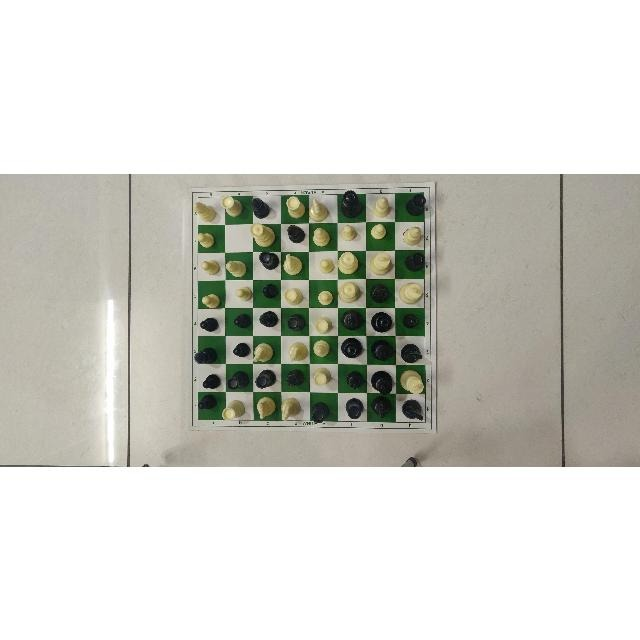black-bishop: (250, 195, 272, 221), (342, 368, 366, 391), (284, 366, 308, 389), (193, 345, 218, 365), (257, 308, 280, 329), (286, 223, 306, 245)
black-king: (370, 367, 396, 394), (340, 308, 365, 332), (369, 338, 394, 361)
black-knight: (369, 395, 394, 419), (401, 398, 426, 421), (367, 280, 392, 303), (399, 342, 424, 364)
black-pawn: (259, 279, 280, 302), (200, 313, 220, 333), (233, 311, 253, 331), (402, 311, 422, 331), (232, 340, 252, 359), (197, 393, 219, 410), (201, 371, 221, 389)
black-queen: (339, 188, 365, 218), (370, 309, 394, 334), (339, 337, 362, 359)
black-rook: (307, 400, 332, 424), (404, 192, 428, 216), (225, 366, 250, 389), (403, 250, 426, 273), (343, 395, 365, 419), (253, 367, 278, 387), (257, 249, 280, 270), (286, 310, 306, 331)
white-bishop: (191, 199, 217, 223), (309, 226, 332, 249), (225, 256, 248, 279), (402, 224, 424, 248), (371, 194, 392, 217), (311, 337, 330, 359)
white-king: (399, 368, 424, 395), (398, 281, 424, 305), (369, 251, 393, 275)
white-knight: (280, 395, 302, 421), (281, 251, 304, 275), (287, 340, 309, 364), (307, 198, 329, 222), (256, 395, 276, 420), (252, 342, 273, 364)
white-pawn: (195, 228, 218, 249), (200, 290, 223, 311), (367, 220, 390, 241), (199, 256, 223, 276), (315, 286, 335, 308), (338, 222, 358, 242), (233, 284, 252, 304), (317, 256, 337, 274)
white-queen: (249, 221, 277, 249), (337, 280, 361, 305), (336, 249, 360, 274)
white-rook: (219, 195, 246, 219), (283, 193, 308, 218), (221, 398, 247, 421), (283, 283, 305, 307), (312, 364, 334, 387), (314, 314, 334, 334)
